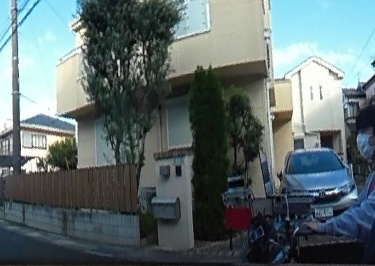person: (310, 100, 375, 262)
